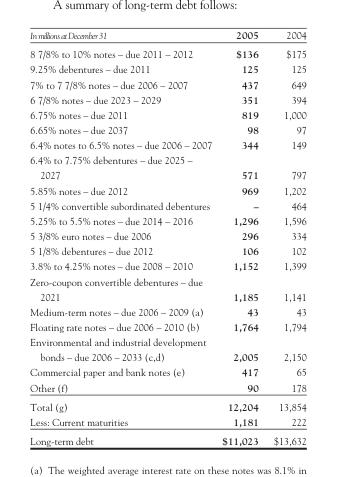table: (29, 28, 305, 445)
table column: (29, 28, 216, 445), (216, 28, 265, 445), (265, 28, 305, 445)
table column header: (29, 28, 305, 44)
table projected row header: (29, 333, 305, 348)
table row: (29, 152, 305, 182), (29, 273, 305, 303), (29, 44, 305, 61), (29, 379, 305, 396), (29, 396, 305, 413), (29, 413, 305, 430), (29, 28, 305, 44), (29, 136, 305, 152), (29, 242, 305, 258), (29, 348, 305, 364), (29, 61, 305, 76), (29, 76, 305, 91), (29, 91, 305, 106), (29, 106, 305, 121), (29, 121, 305, 136), (29, 182, 305, 197), (29, 197, 305, 212), (29, 212, 305, 227), (29, 227, 305, 242), (29, 258, 305, 273), (29, 303, 305, 318), (29, 318, 305, 333), (29, 333, 305, 348), (29, 364, 305, 379), (29, 430, 305, 445)
